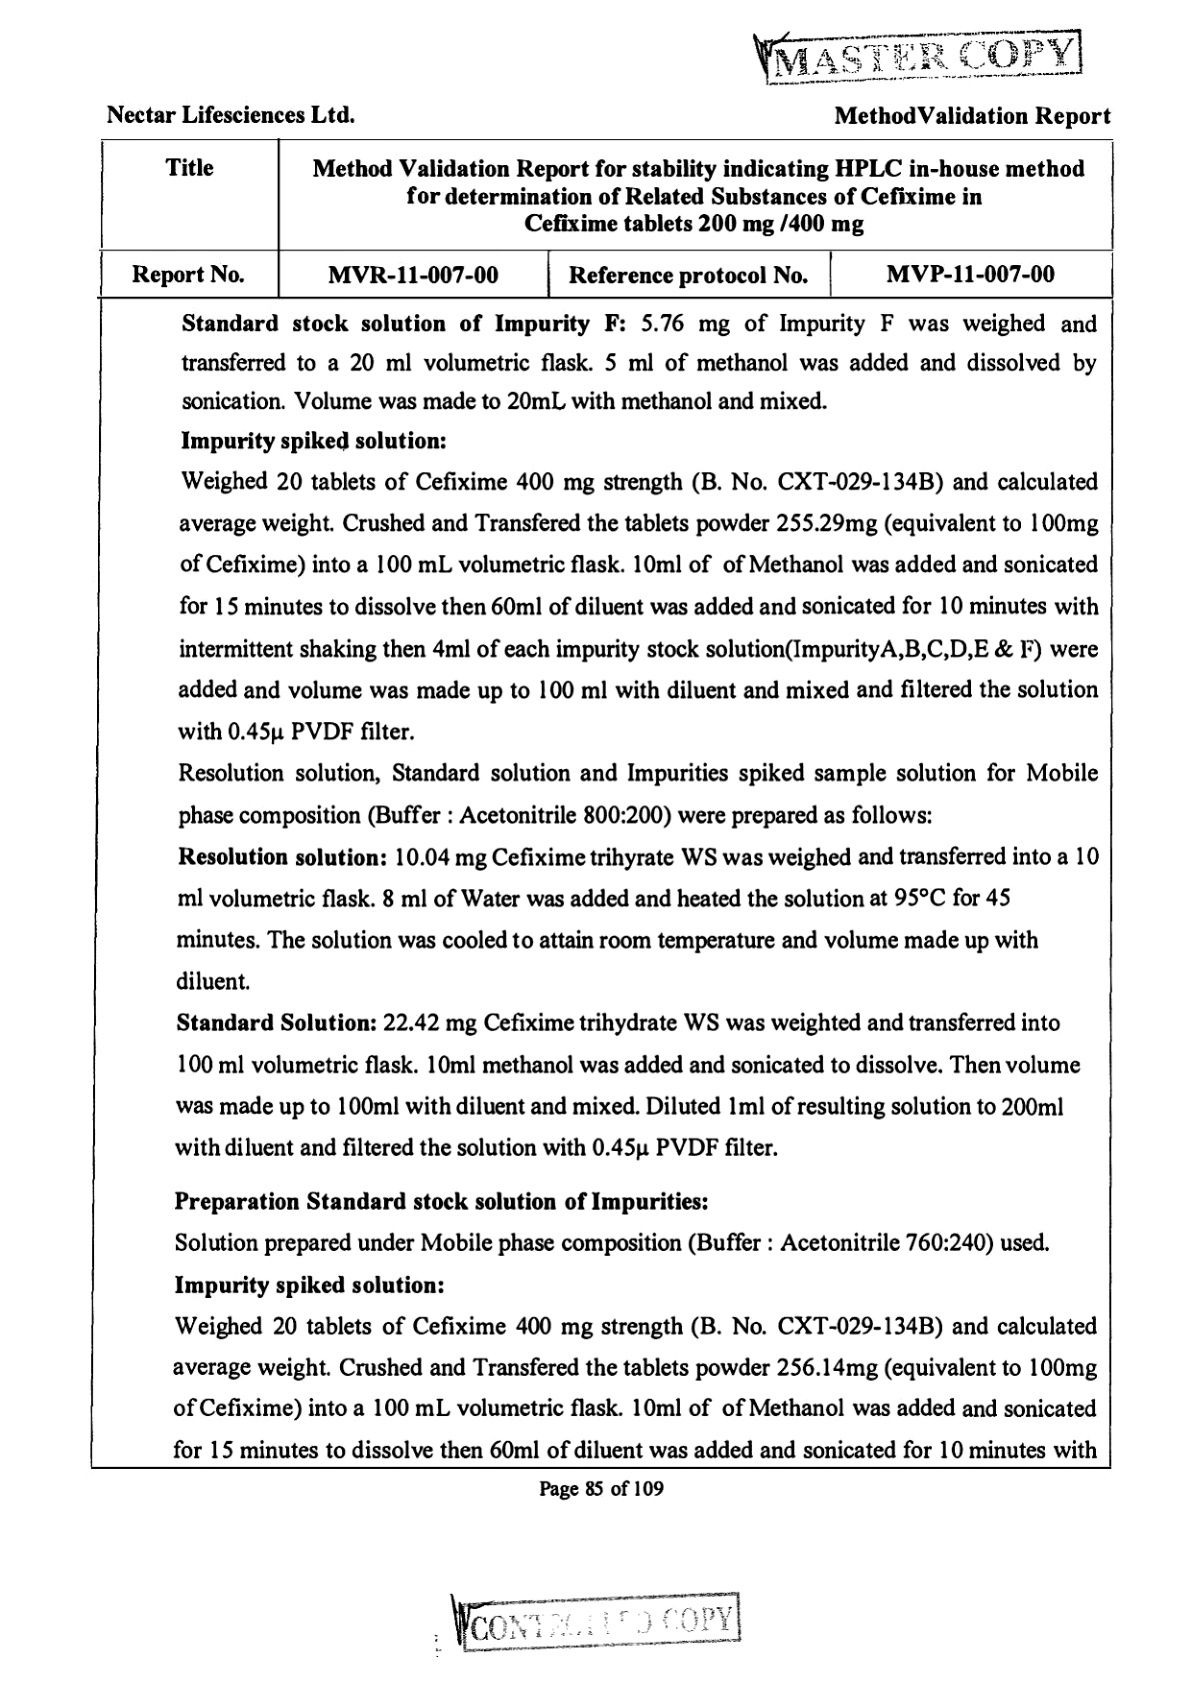merged_cells: (86, 134, 1116, 1471)
